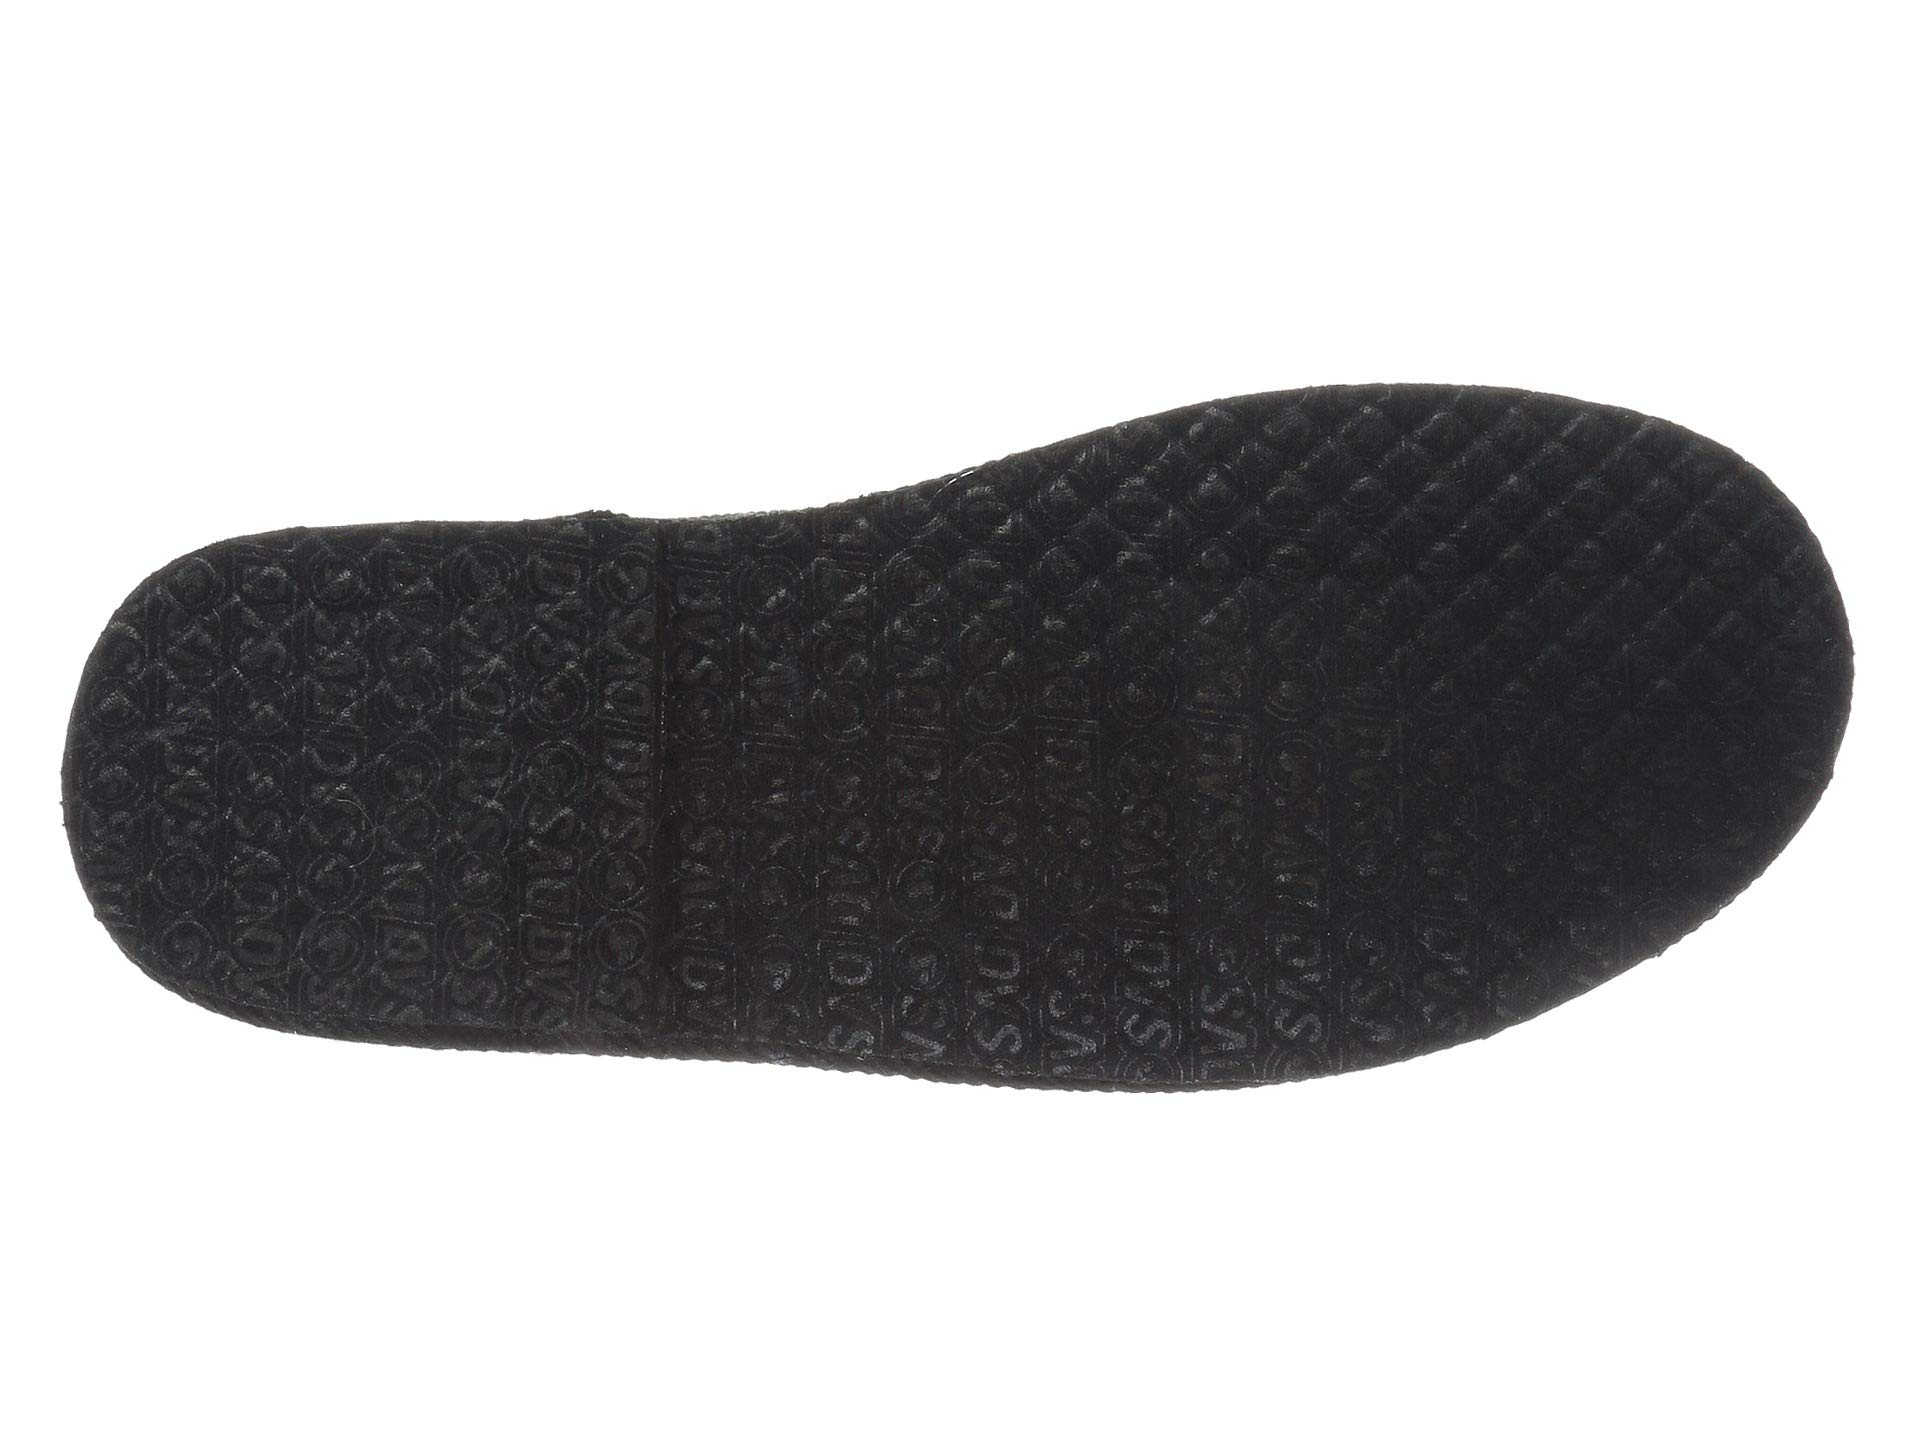circle: (183, 567, 1510, 1027)
quad: (1544, 473, 1773, 855), (1098, 417, 1497, 545)
text: (183, 567, 1510, 1027)
